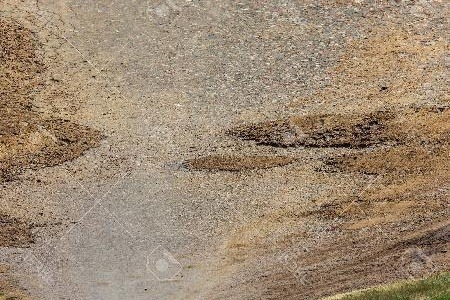pothole: (0, 107, 108, 185), (228, 105, 402, 152), (178, 153, 295, 175), (0, 211, 40, 251)
